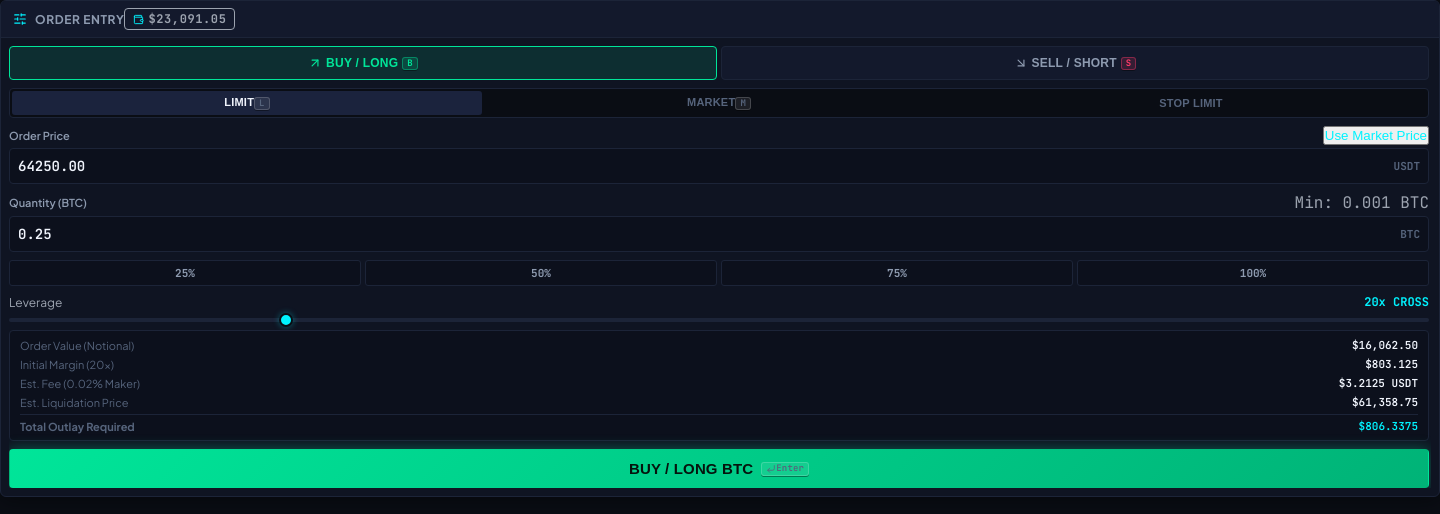
Test: Phase 8 — Order Form Feature › switches to MARKET order type and disables price input with best execution badge
The width and height of the screenshot is (1440, 514).
What coordinates should you click on to do the following:
click the tab with test id "order-type-MARKET"
I would click on:
 (719, 103)
Its box is x1=484 y1=91 x2=954 y2=115.
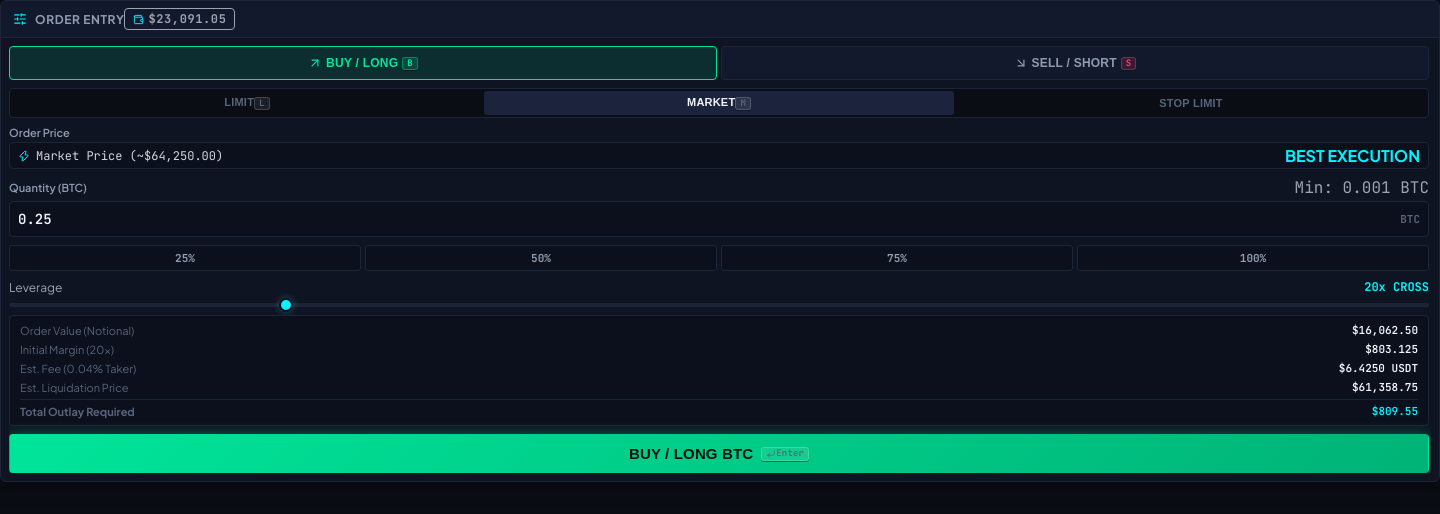
Check: the text "BEST EXECUTION" is shown, box x1=1285 y1=143 x2=1420 y2=168
